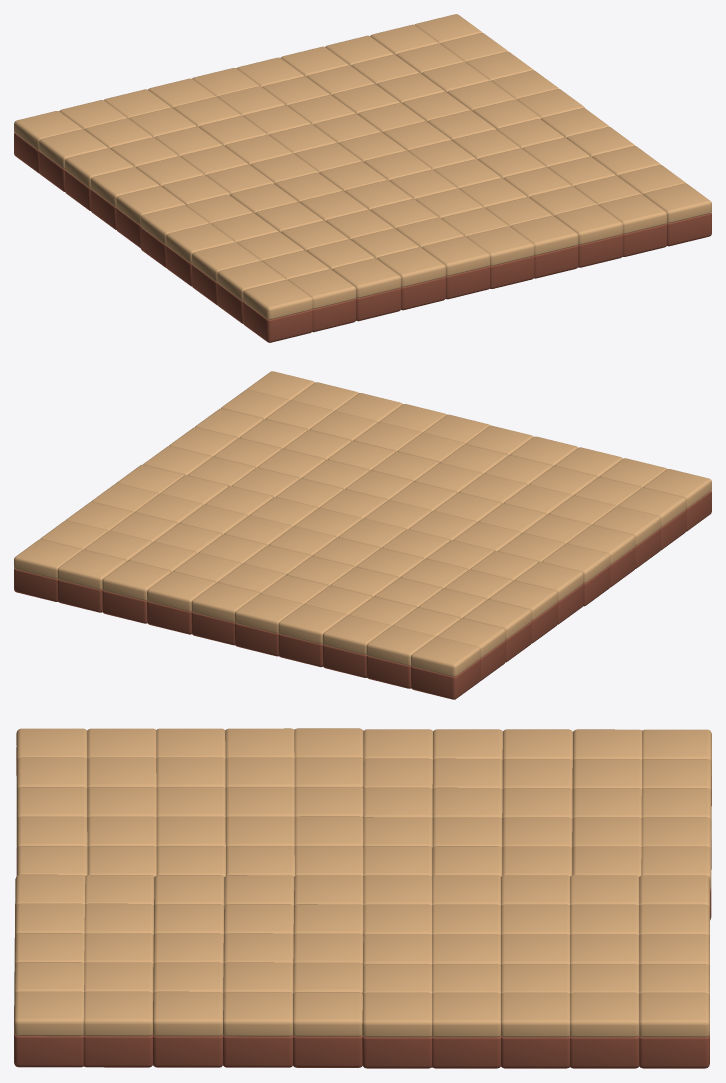
File: arrow_teamBlue.gltf.glb
3 renders of one model, top to bottom at view 1: azimuth 30°, elevation 25°; view 2: azimuth 150°, elevation 25°; view 3: azimuth 270°, elevation 25°, orthographic. The views are drawn at different scales.
Parts seen in each view (by area): view 1: tileMedium_desert.003; view 2: tileMedium_desert.003; view 3: tileMedium_desert.003.
Boxes of the visible parts, bbox=[...] form: tileMedium_desert.003: bbox=[14, 14, 711, 342]; tileMedium_desert.003: bbox=[14, 371, 711, 699]; tileMedium_desert.003: bbox=[14, 728, 711, 1068].
Size of the model in its own units: 19.47 by 1.5 by 19.5.
